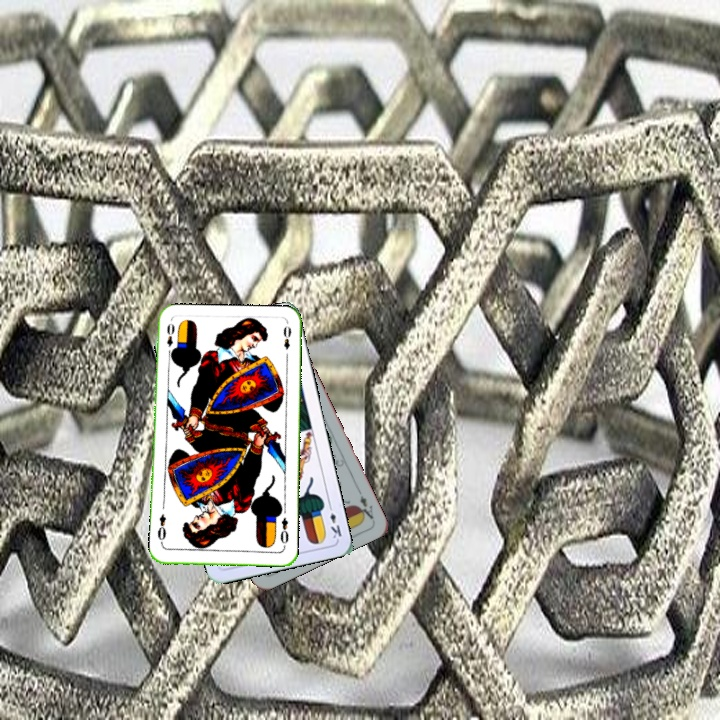EA: (353, 485, 376, 522)
EK: (324, 500, 344, 541)
EO: (277, 513, 291, 546), (163, 319, 176, 349)
